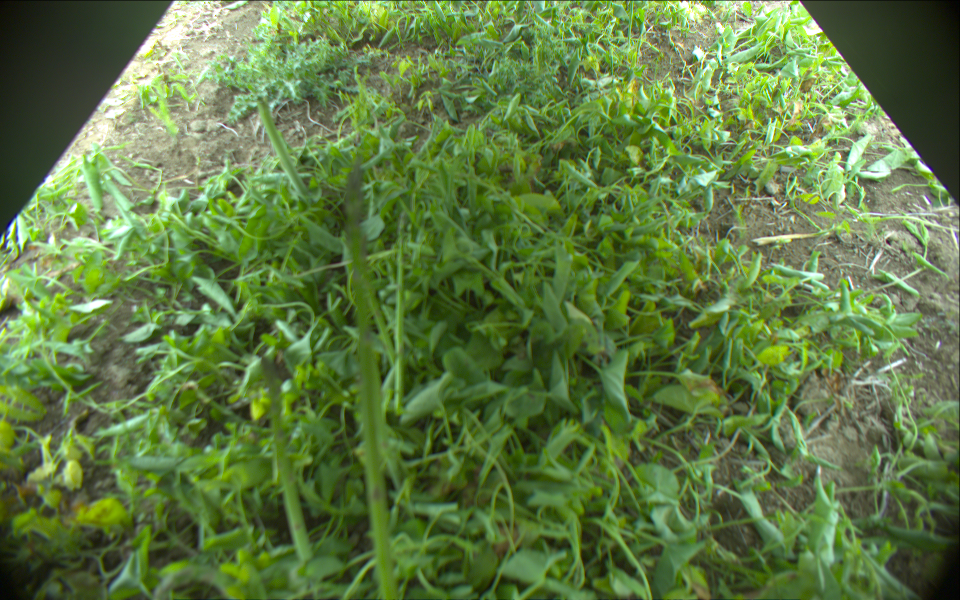aspa: (343, 167, 402, 600), (259, 354, 313, 564), (338, 216, 396, 366), (256, 97, 310, 202), (394, 211, 408, 414)
